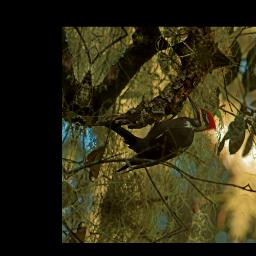Woodpecker: (113, 80, 222, 197)
